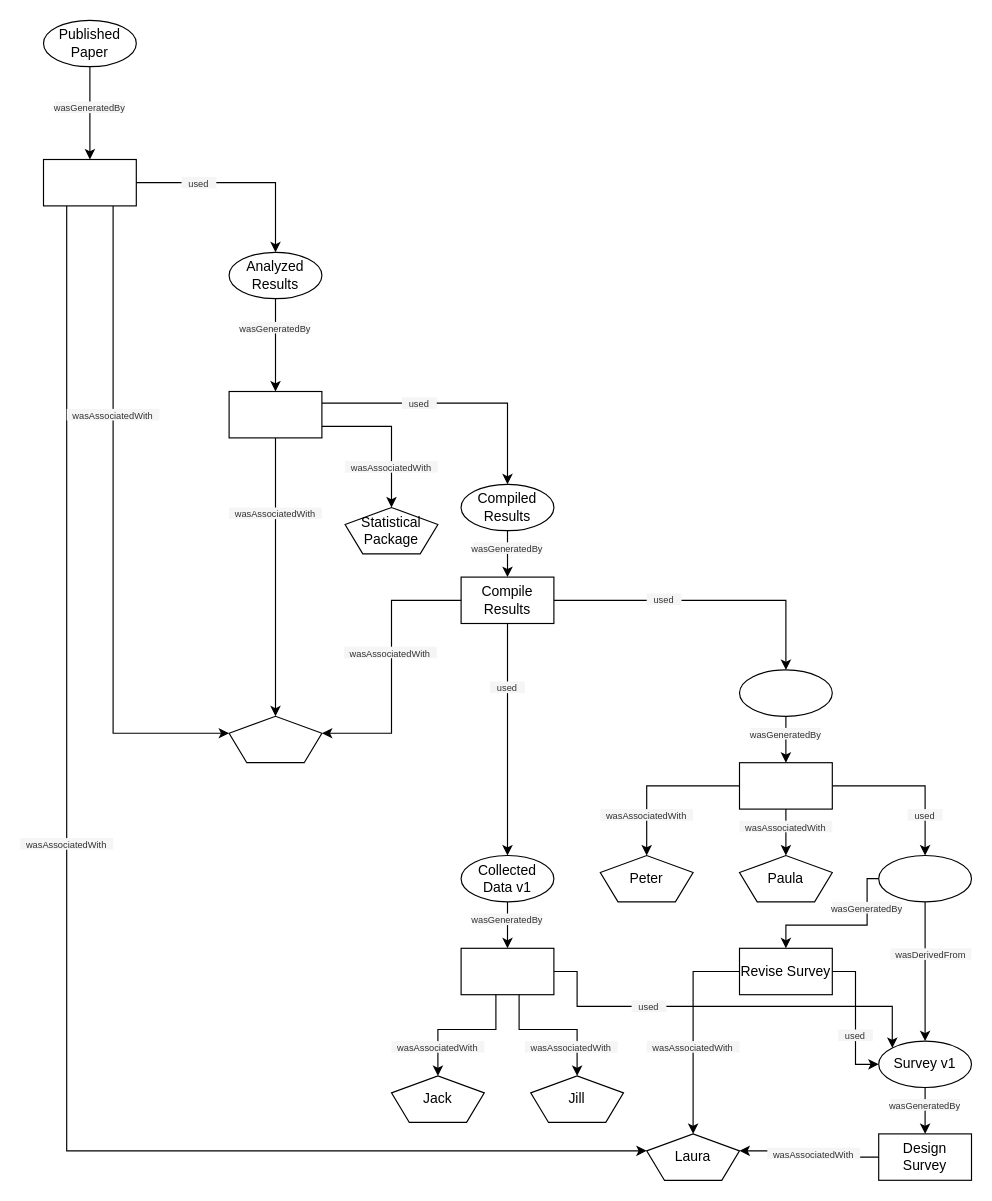
This 992x1201 diagram has some shape labels left out. The box of each missing label's shape, as (x1, y1, x2, y2) in pixels:
Analyze Results: (228, 390, 322, 438)
Collect Data 1: (460, 947, 554, 995)
Collect Data 2: (738, 762, 832, 809)
Collected Data v2: (738, 669, 832, 716)
Publish Paper: (42, 158, 136, 206)
Revised Survey v2: (878, 854, 971, 902)
Zack: (228, 715, 322, 763)
